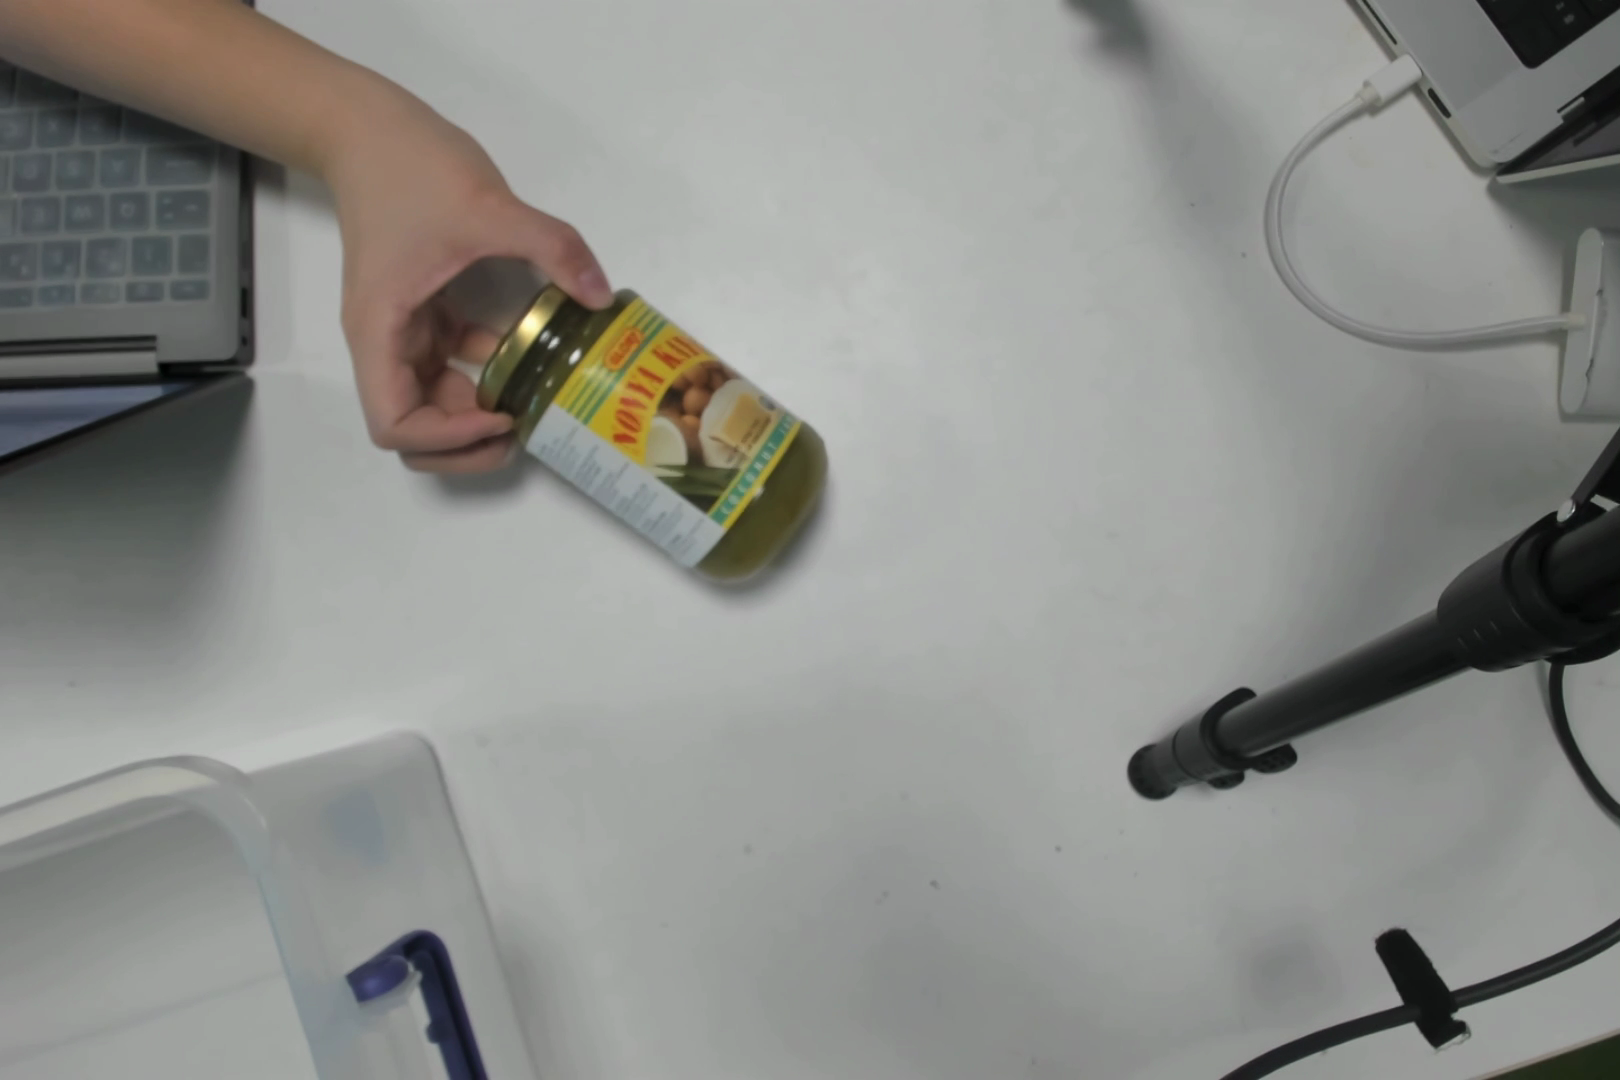Kaya_400-499g_Halal_NonHealthy: (526, 292, 843, 597)
